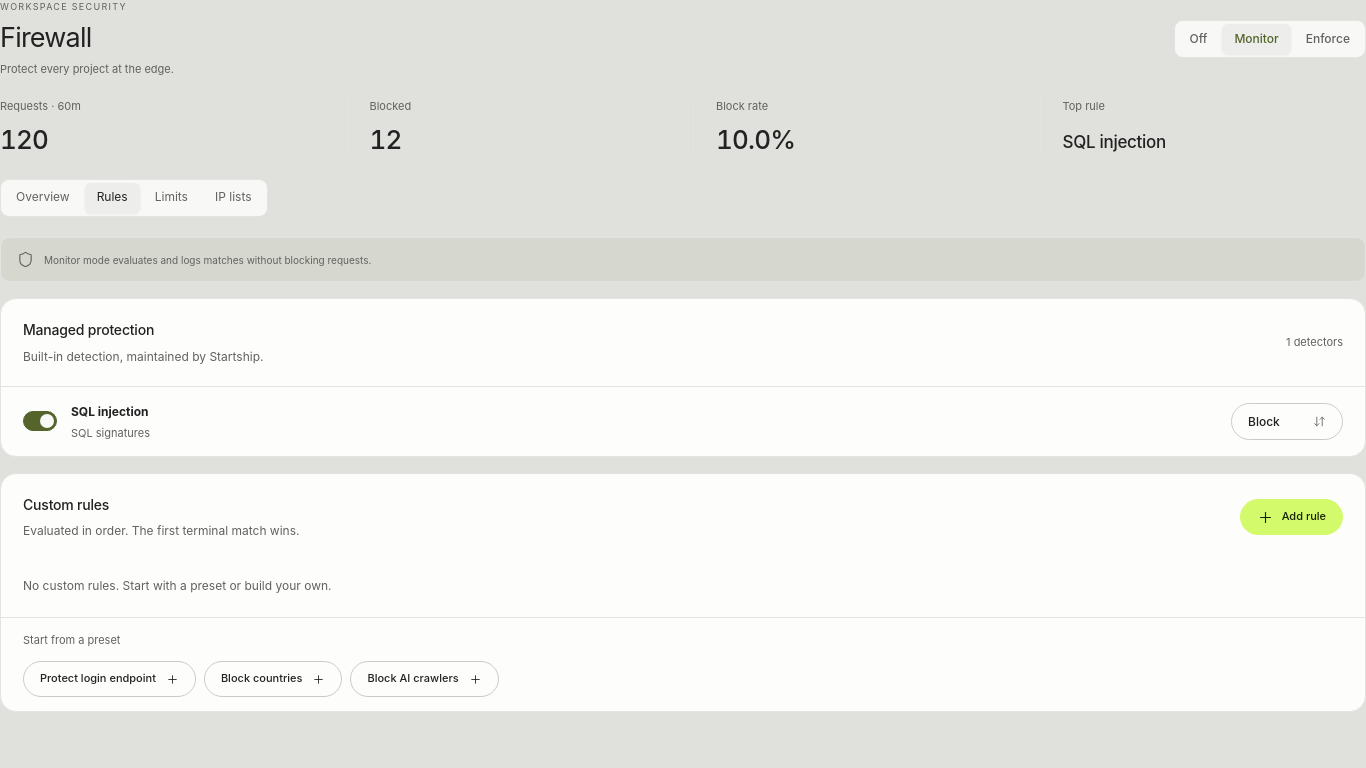
workspace firewall › uses method and polarity pickers and can disable a rate-limit ban
Later steps or results of the test are not shown.
Click the button "Protect login endpoint".
click(109, 679)  # box [23,661,196,697]
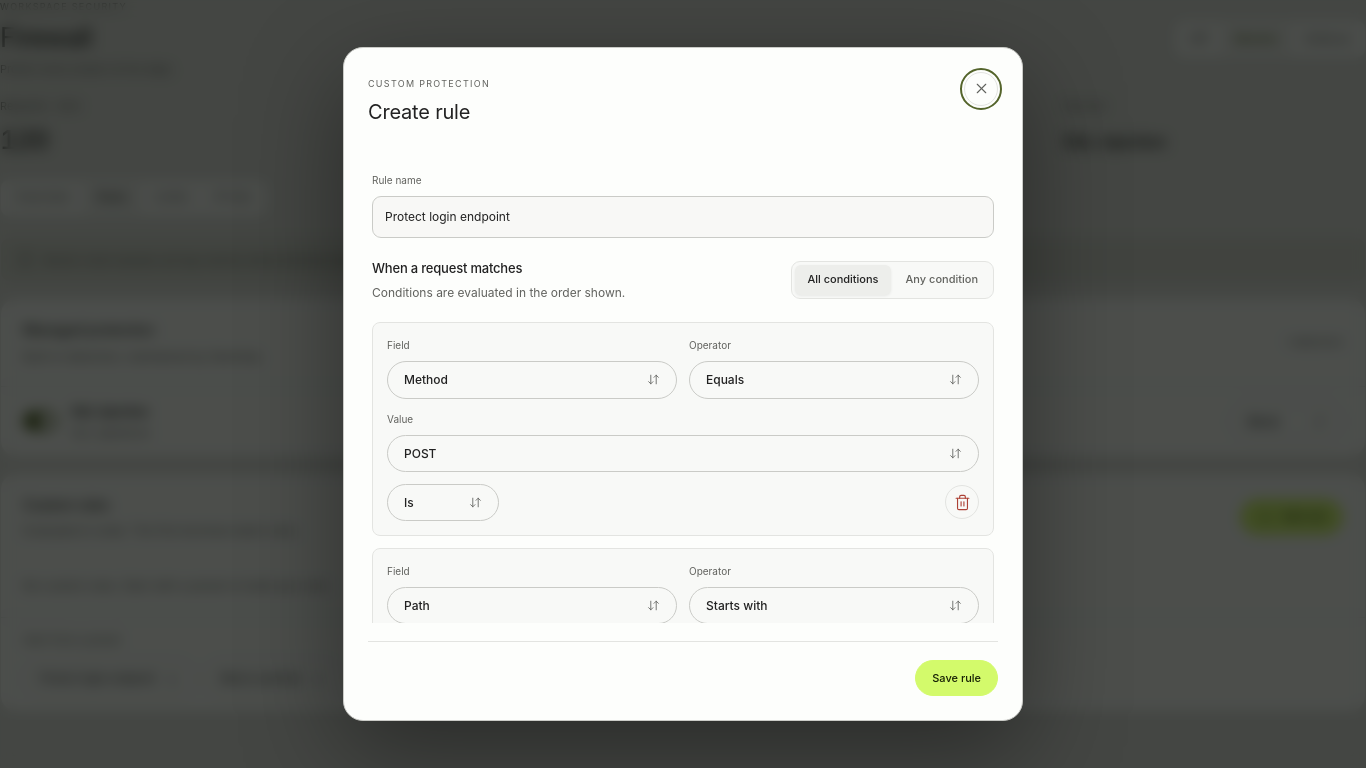
Click the button with aria-label "Condition 1 value".
click(420, 453)  # box [387,435,979,472]
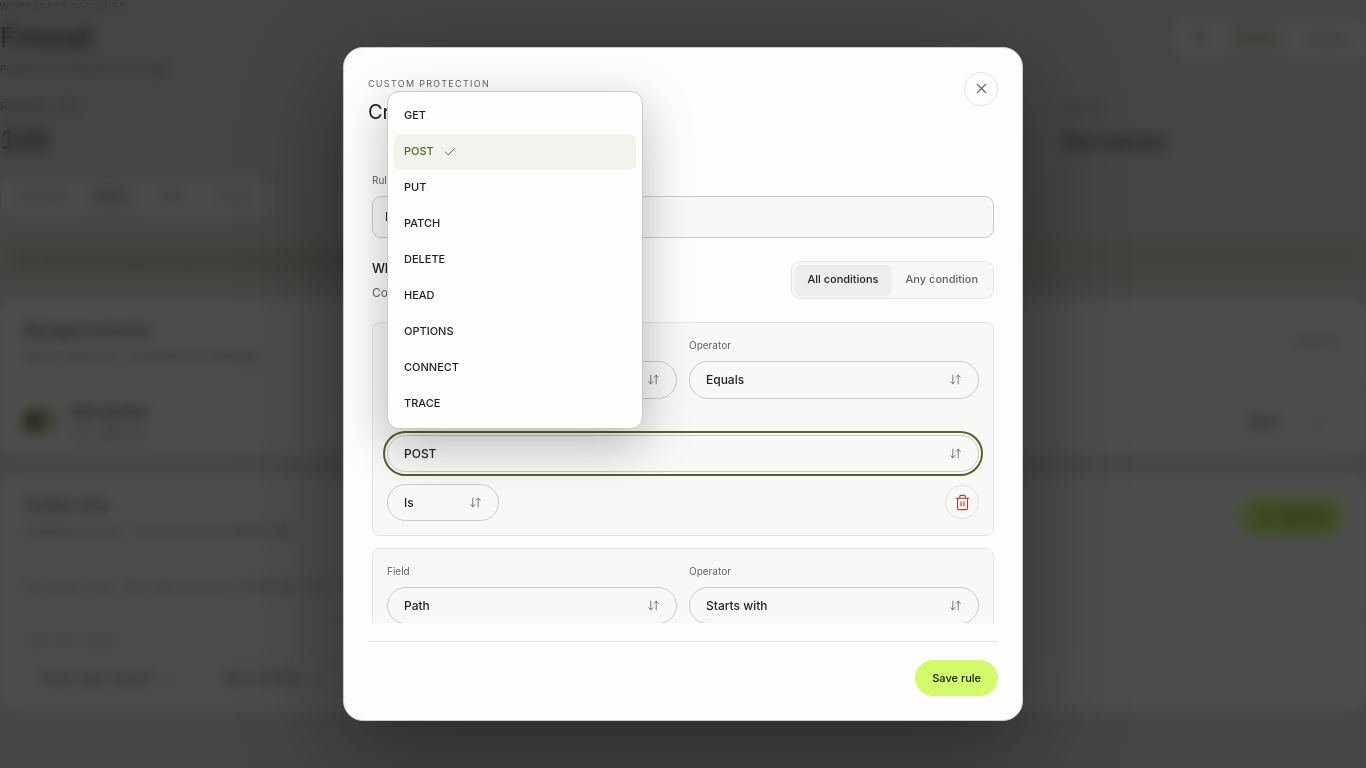
Click the option "PUT".
click(515, 188)  # box [394,170,636,206]
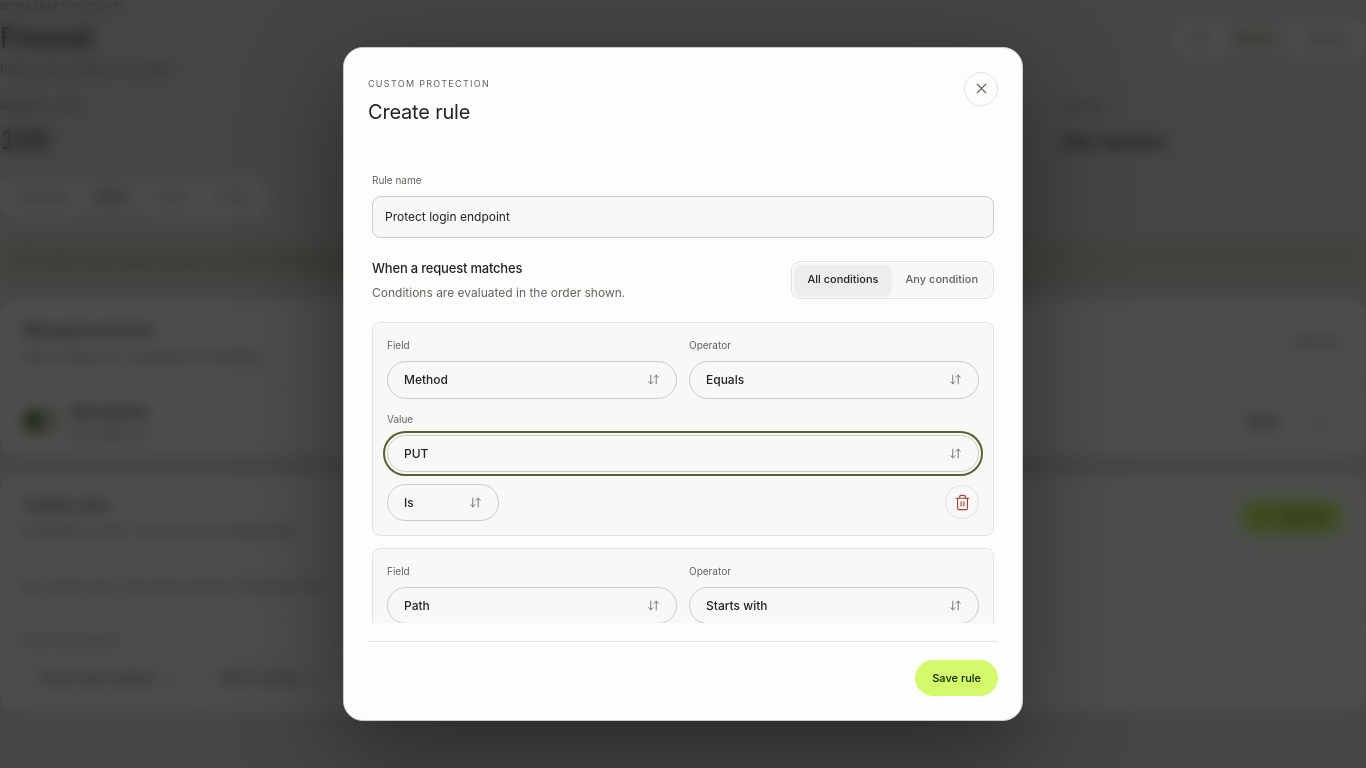
Click the button with aria-label "Condition 1 polarity".
click(443, 502)  # box [387,484,499,521]
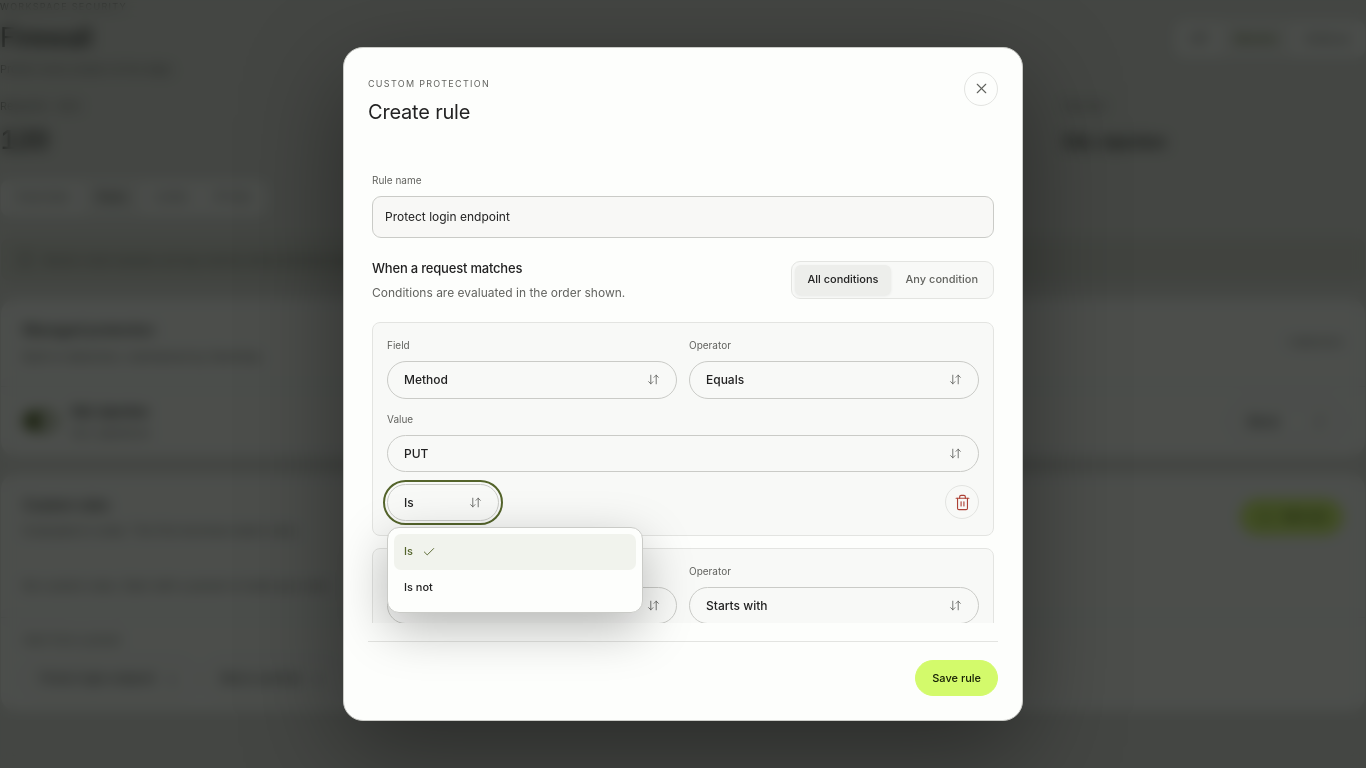
Click the option "Is not".
click(515, 588)  # box [394,570,636,606]
(page scrolled)
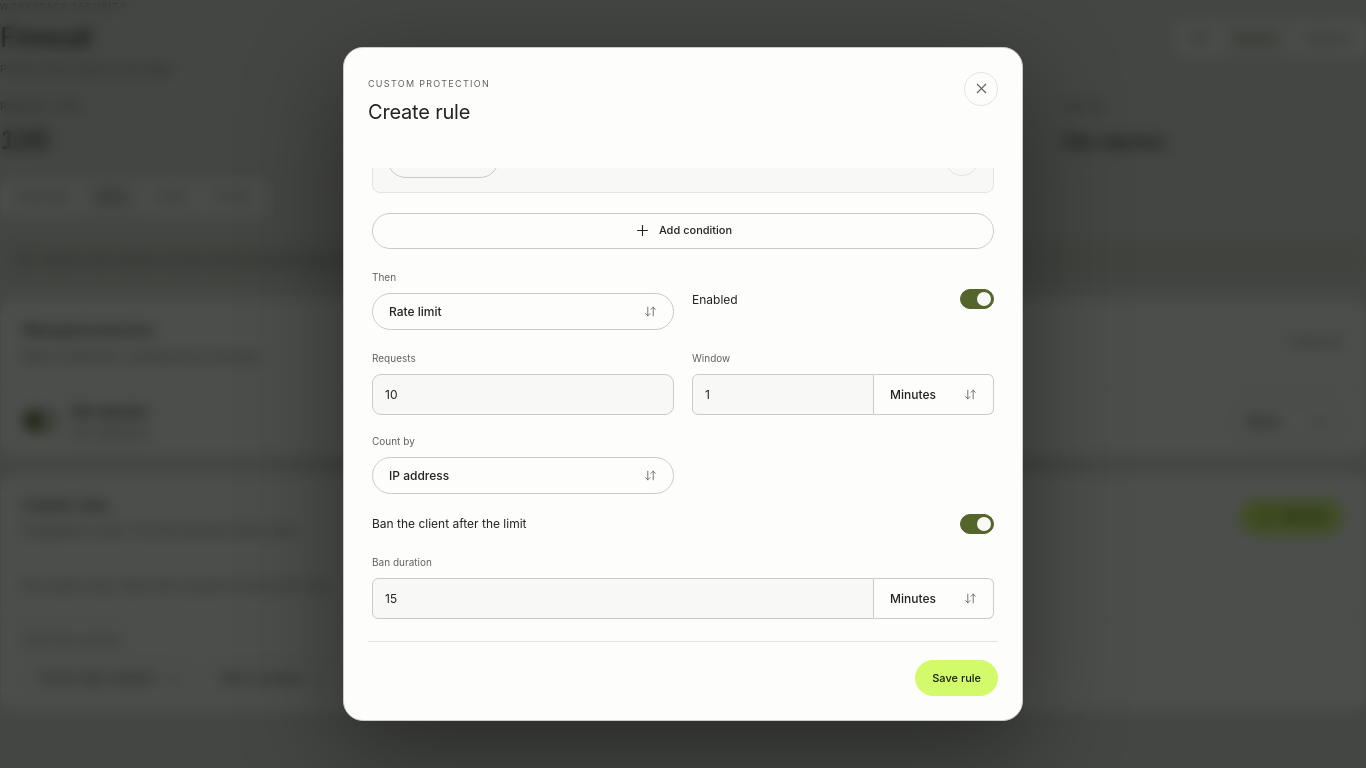
Click the switch named "Ban the client after the limit".
click(977, 524)  # box [960,514,994,534]
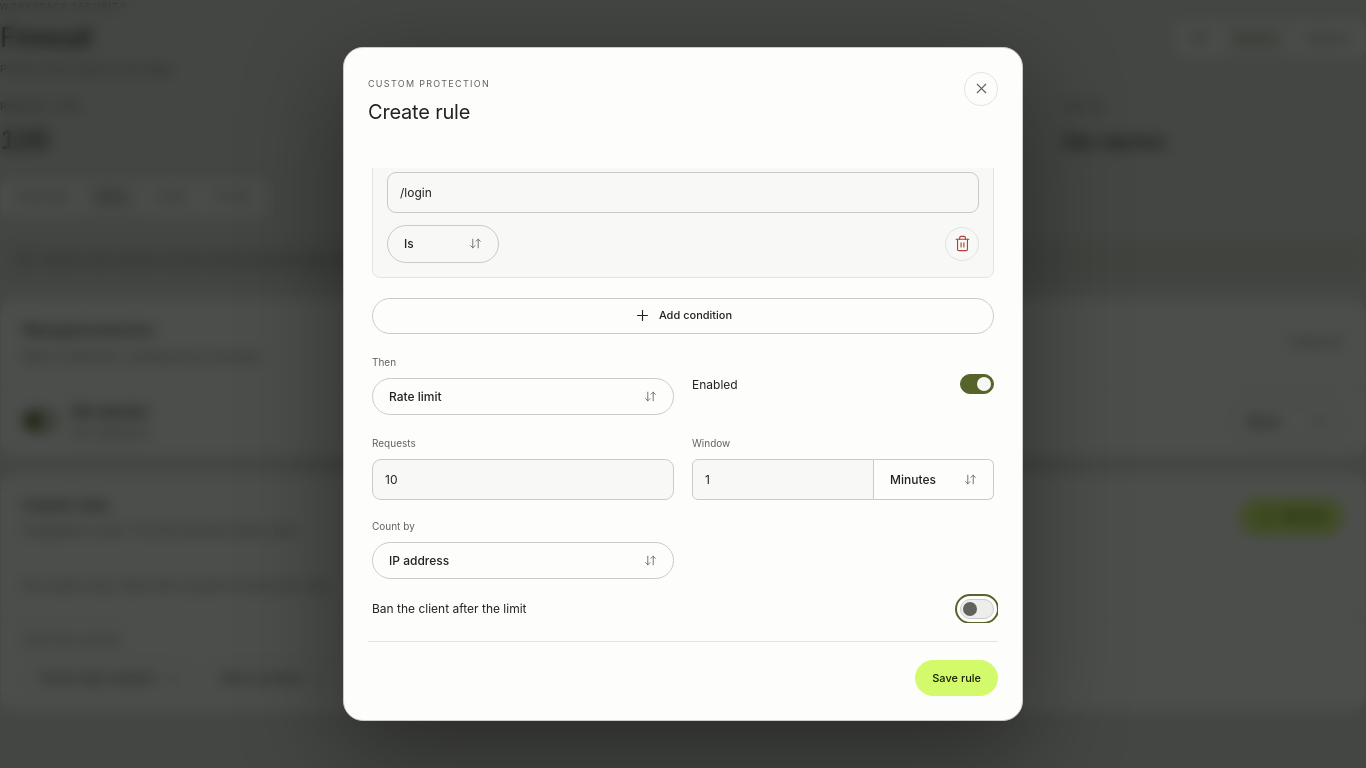
Expected: the label labelled "Ban duration" is gone
